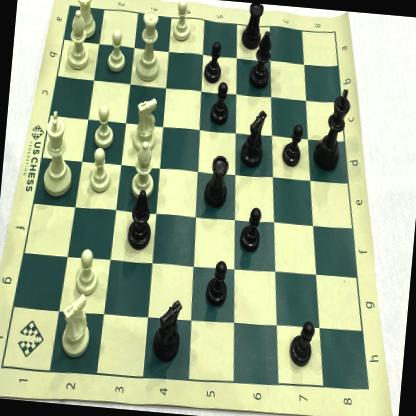black-bishop: (121, 184, 157, 254), (247, 25, 276, 94)
black-king: (310, 84, 353, 176)
black-knight: (150, 293, 186, 367), (237, 106, 268, 172)
black-pawn: (286, 314, 318, 370), (202, 256, 232, 309), (238, 203, 265, 257), (278, 119, 306, 170), (201, 36, 228, 86), (207, 80, 235, 128)
black-rook: (201, 147, 234, 211), (237, 2, 266, 53)
white-bishop: (60, 7, 96, 73), (129, 140, 159, 204)
white-king: (38, 107, 80, 200)
white-knight: (58, 288, 96, 364), (128, 92, 160, 155)
white-pawn: (72, 245, 102, 299), (86, 144, 115, 195), (105, 28, 131, 76), (167, 0, 194, 46), (92, 103, 118, 150)
white-queen: (134, 5, 167, 86)
white-rook: (71, 0, 101, 42)
